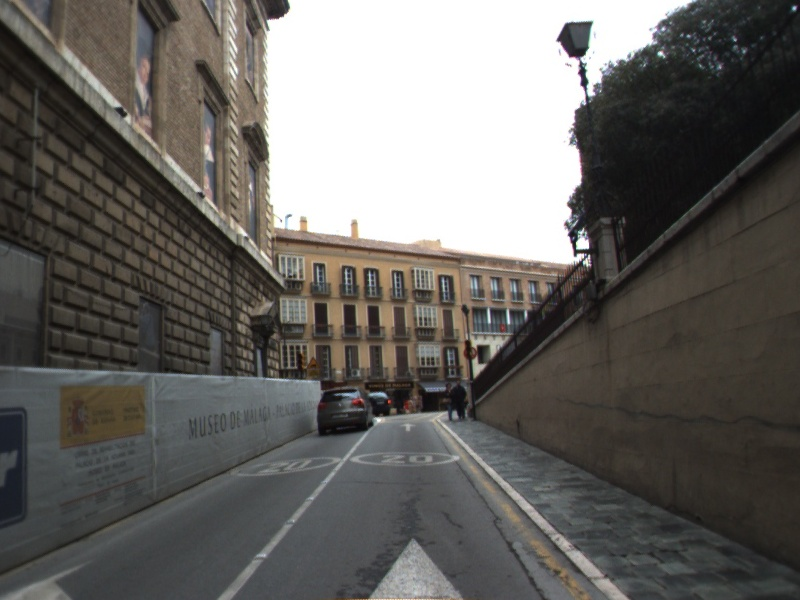STRAIGHT: (398, 421, 418, 433)
